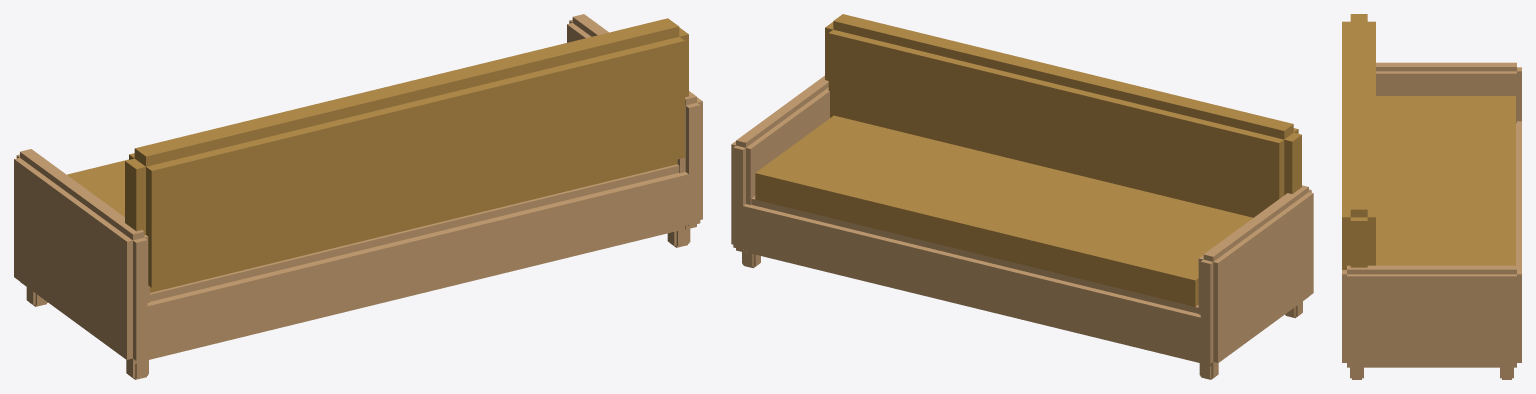
The model's file is palm_sofa_v0.glb.
3 renders of one model, left to right at view 1: azimuth 30°, elevation 25°; view 2: azimuth 150°, elevation 25°; view 3: azimuth 270°, elevation 25°, orthographic. The views are drawn at different scales.
Visible parts, largest first — view 1: palm_sofa_v0; view 2: palm_sofa_v0; view 3: palm_sofa_v0.
Boxes of the visible parts, x1,y1,x2,y2 form: palm_sofa_v0: [14, 14, 702, 379]; palm_sofa_v0: [731, 14, 1313, 379]; palm_sofa_v0: [1342, 14, 1521, 379].
Bounding box in the file's own units: 2.5 × 0.92 × 0.9.
